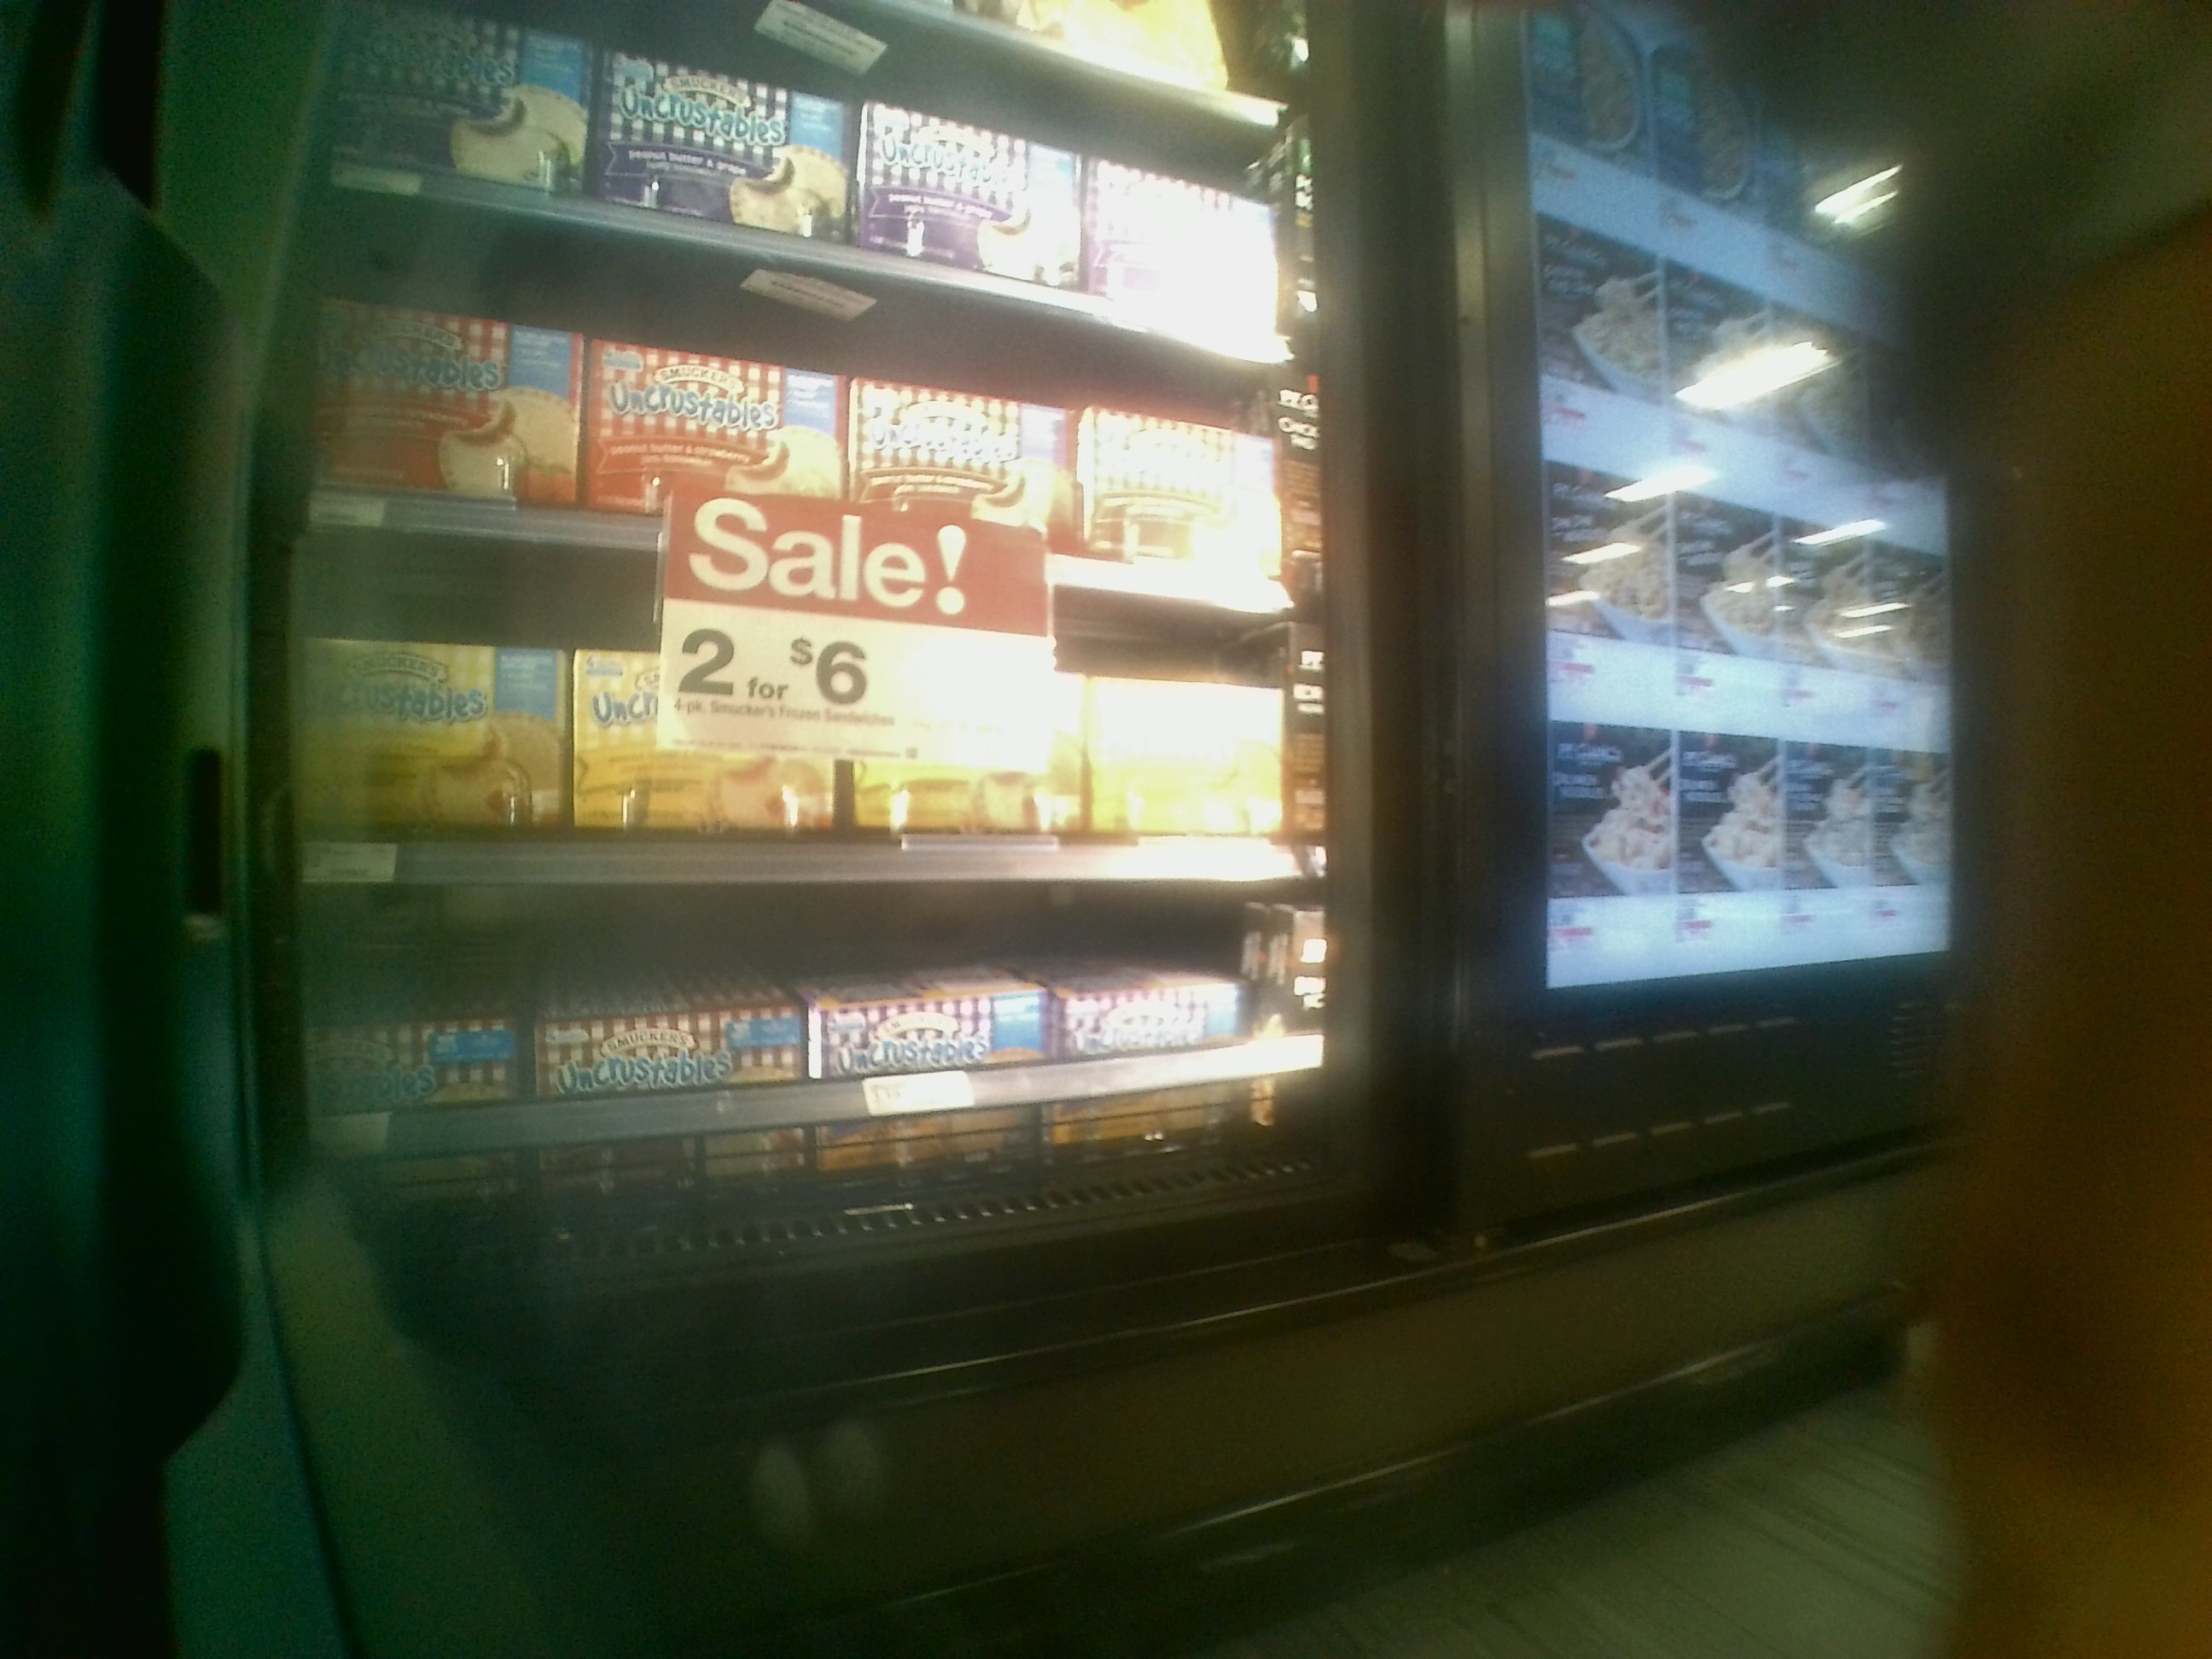shelf: (256, 544, 1298, 894), (268, 894, 1332, 1211), (275, 232, 1313, 549)
